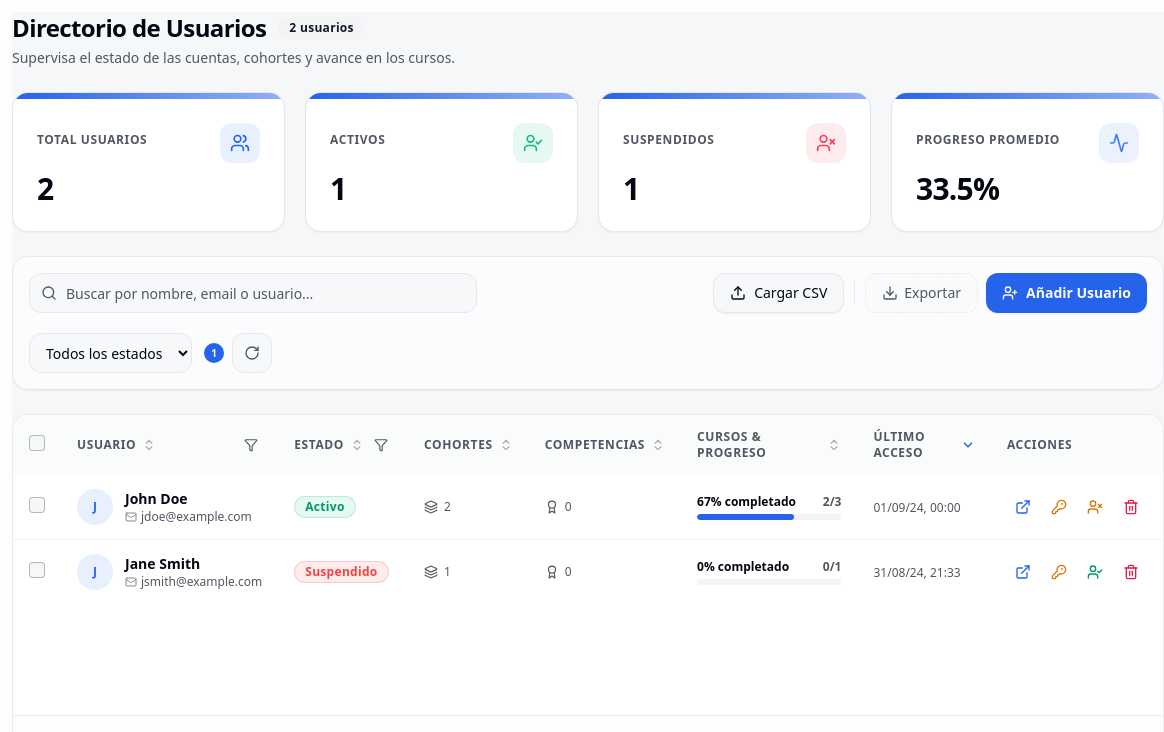
it: UsersView behavior tests › shows success toast after suspend action
Expected: the link "John Doe" is shown, [125,489,188,509]
Click the button titled "Suspender usuario". click: coordinates (1095, 507)
box: [1079,491,1111,523]
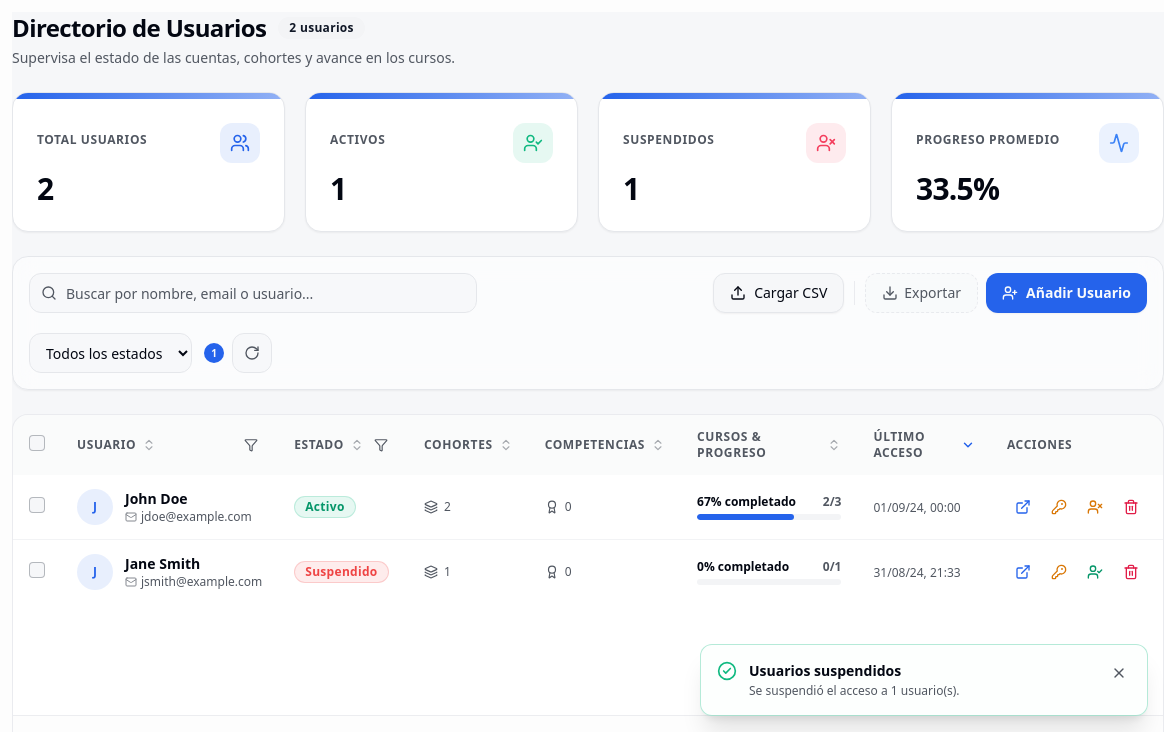
Result: the text "Usuarios suspendidos" is shown at [749,661,901,680]
